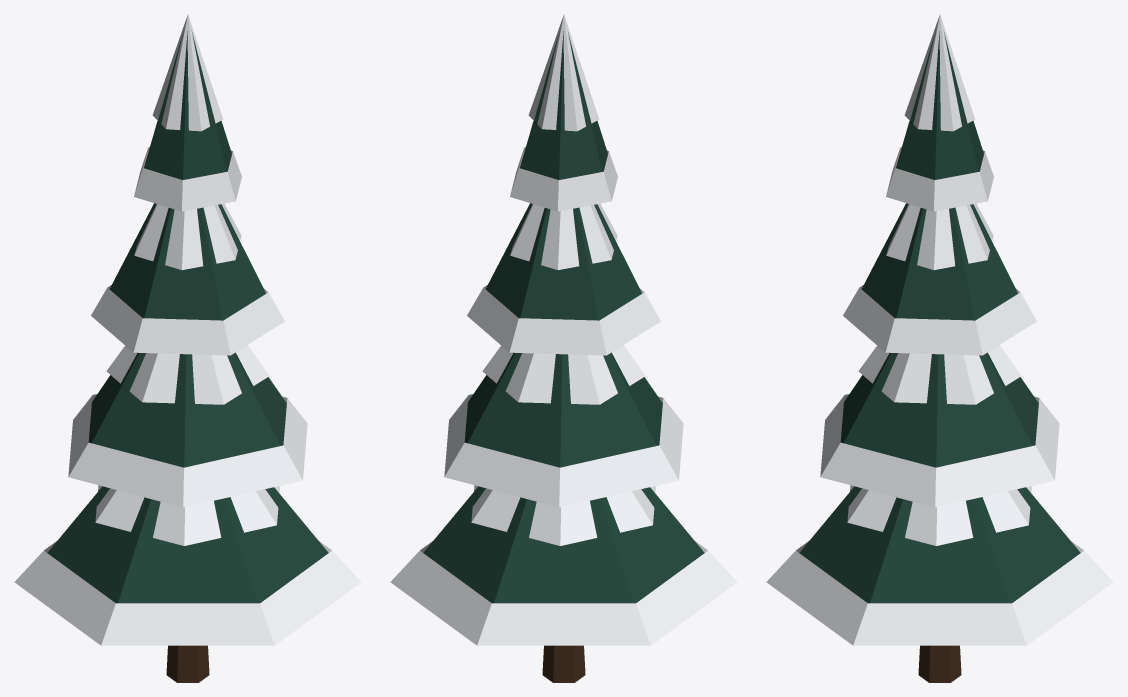
Rendered from pine-b.glb.
3 views of the same model, side by side, from view 1: azimuth 30°, elevation 25°; view 2: azimuth 150°, elevation 25°; view 3: azimuth 270°, elevation 25° (orthographic).
Visible parts, largest first — view 1: pine-b; view 2: pine-b; view 3: pine-b.
Part boxes in pixels (box(x1,y1,x2,y2)): pine-b: box(14, 14, 361, 682); pine-b: box(390, 14, 737, 682); pine-b: box(766, 14, 1113, 682).
Bounding box in the file's own units: 4.38 × 10.61 × 5.06.
